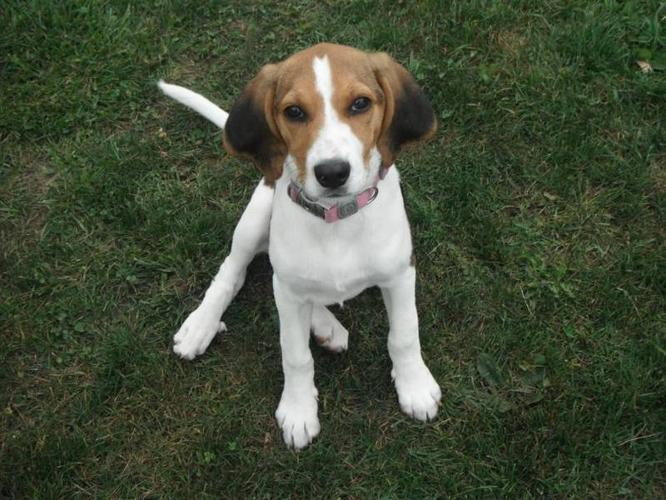dog: (146, 36, 449, 450)
